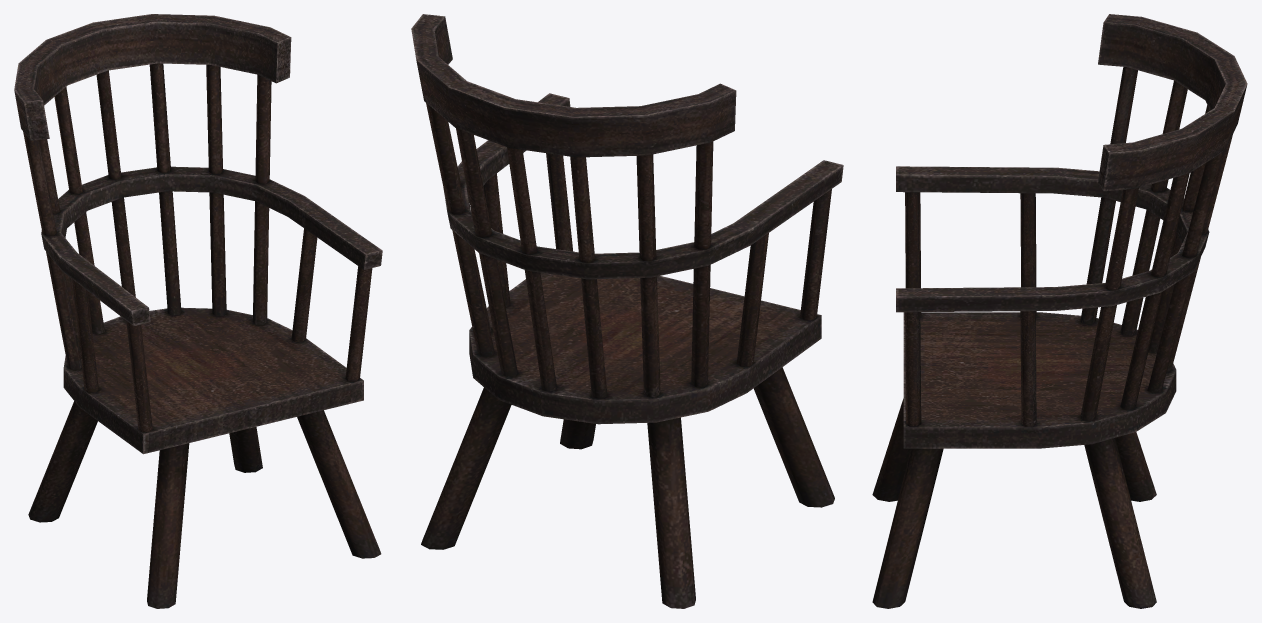
File: chair_wood.dae
The picture shows the model from 3 angles, left to right: view 1: azimuth 30°, elevation 25°; view 2: azimuth 150°, elevation 25°; view 3: azimuth 270°, elevation 25°; orthographic projection. The views are drawn at different scales.
Parts seen in each view (by area): view 1: WoodenChair03; view 2: WoodenChair03; view 3: WoodenChair03.
Boxes of the visible parts, <box> form: WoodenChair03: <box>14,14,382,608</box>; WoodenChair03: <box>411,14,843,608</box>; WoodenChair03: <box>872,14,1247,608</box>.
Bounding box in the file's own units: 0.7513 × 1.16 × 0.854.
